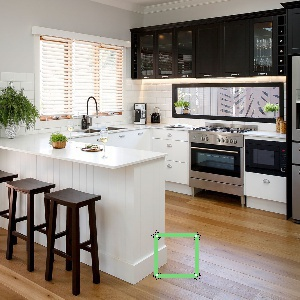square: (152, 231, 201, 281)
